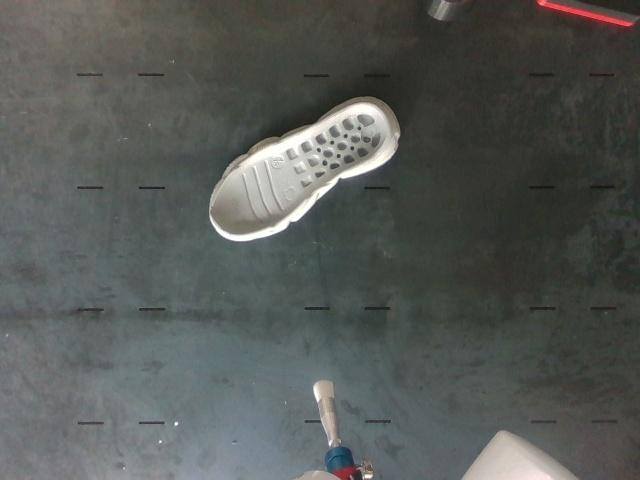shoes: (211, 102, 389, 238)
